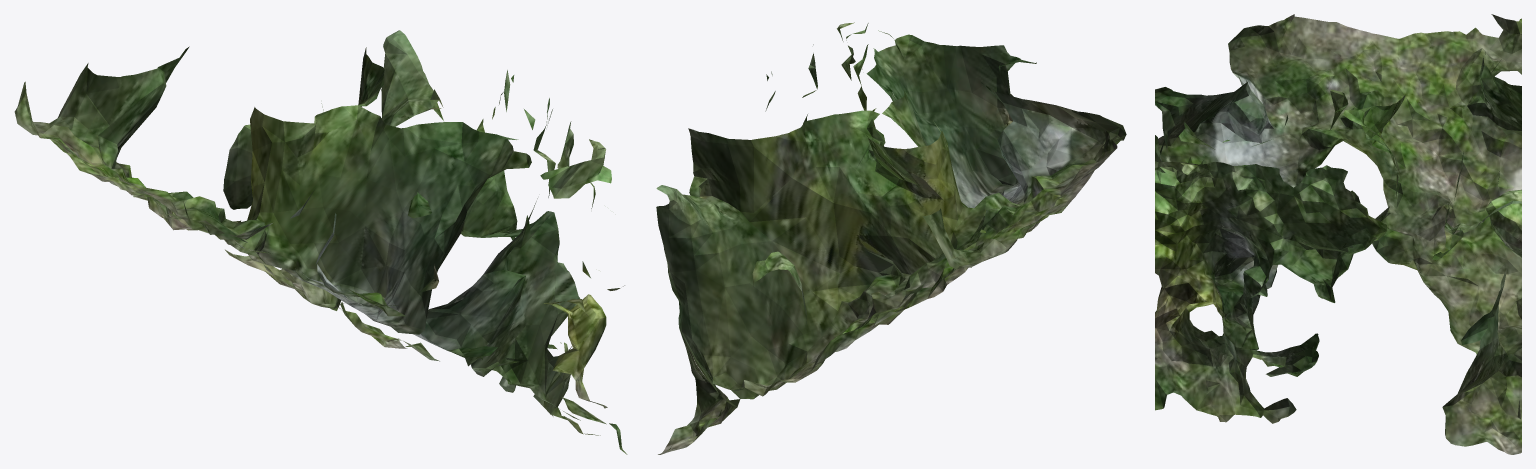
3 renders of one model, left to right at view 1: azimuth 30°, elevation 25°; view 2: azimuth 150°, elevation 25°; view 3: azimuth 270°, elevation 25°, orthographic. The views are drawn at different scales.
Bounding box in the file's own units: 2.95 × 2.54 × 2.95.
Materials: 5 (5 with a texture image).
